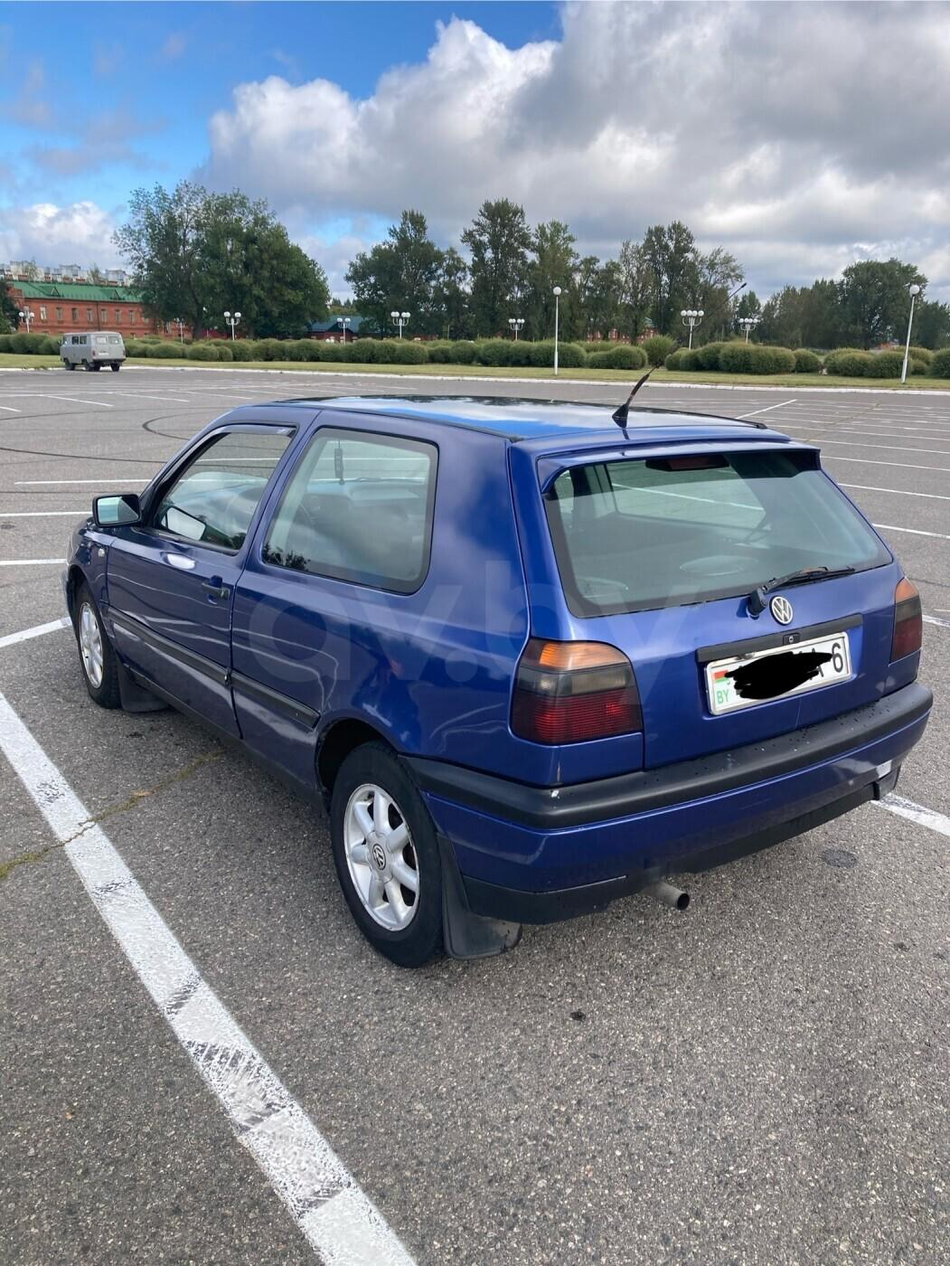Golf_1991-2000: (59, 389, 936, 969)
